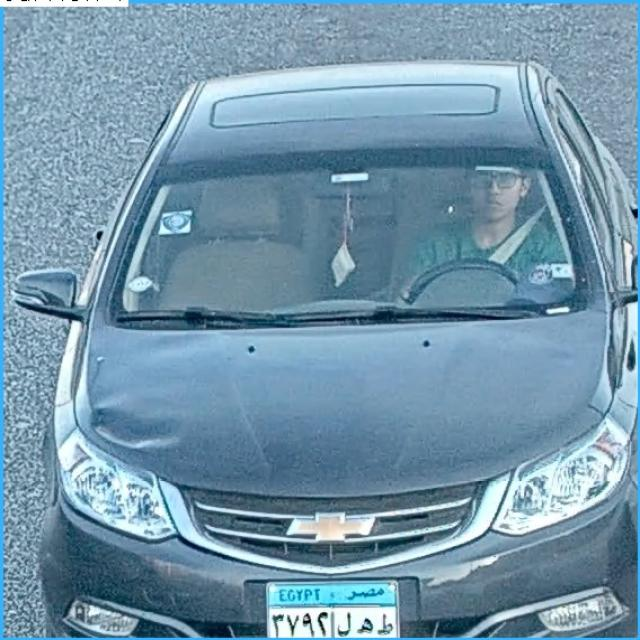windshield: (108, 160, 588, 307)
